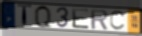3: (55, 6, 70, 30)
C: (109, 10, 127, 32)
E: (71, 7, 91, 30)
Q: (33, 4, 54, 30)
R: (90, 8, 109, 31)
T: (16, 4, 33, 28)
